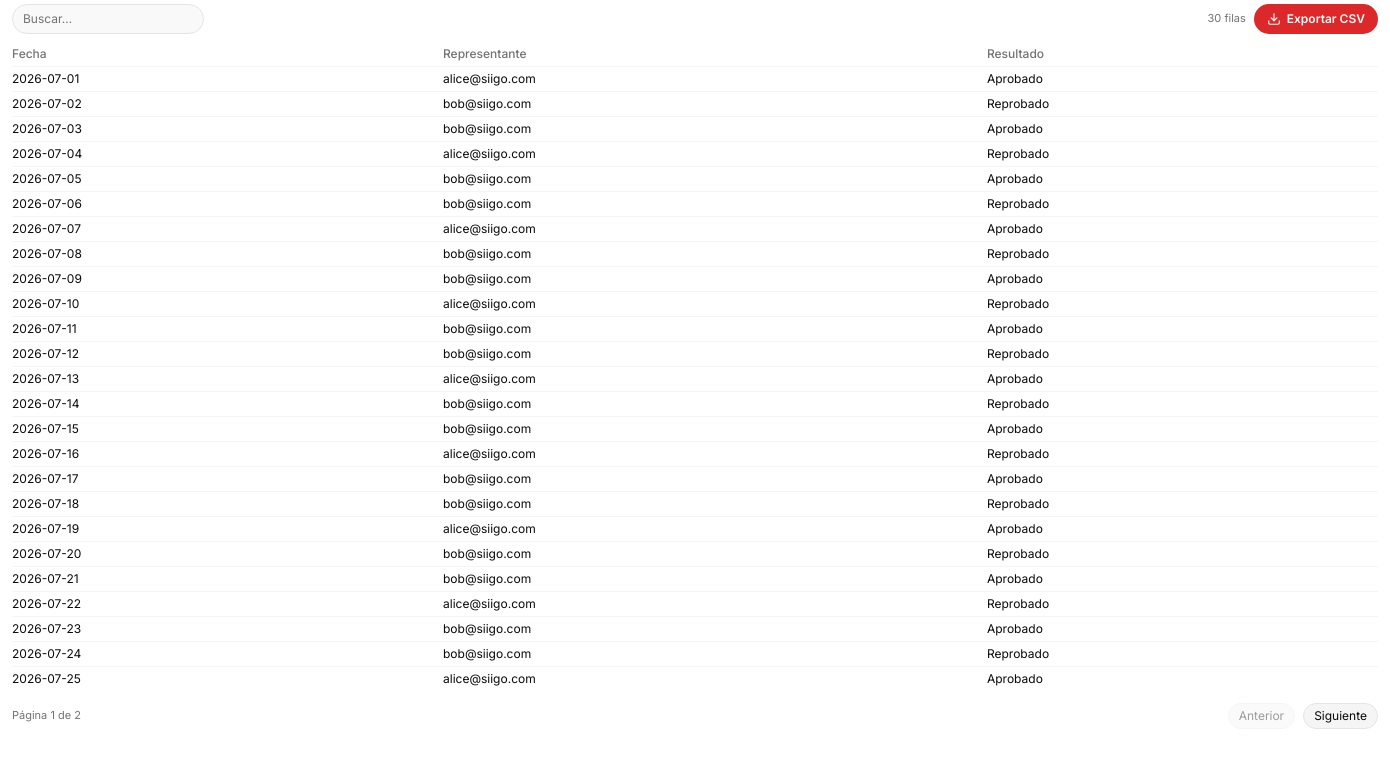
Test: ReportsTable › advances to the next page
Click the button "Siguiente". click: (1341, 716)
box: [1303,703,1378,729]
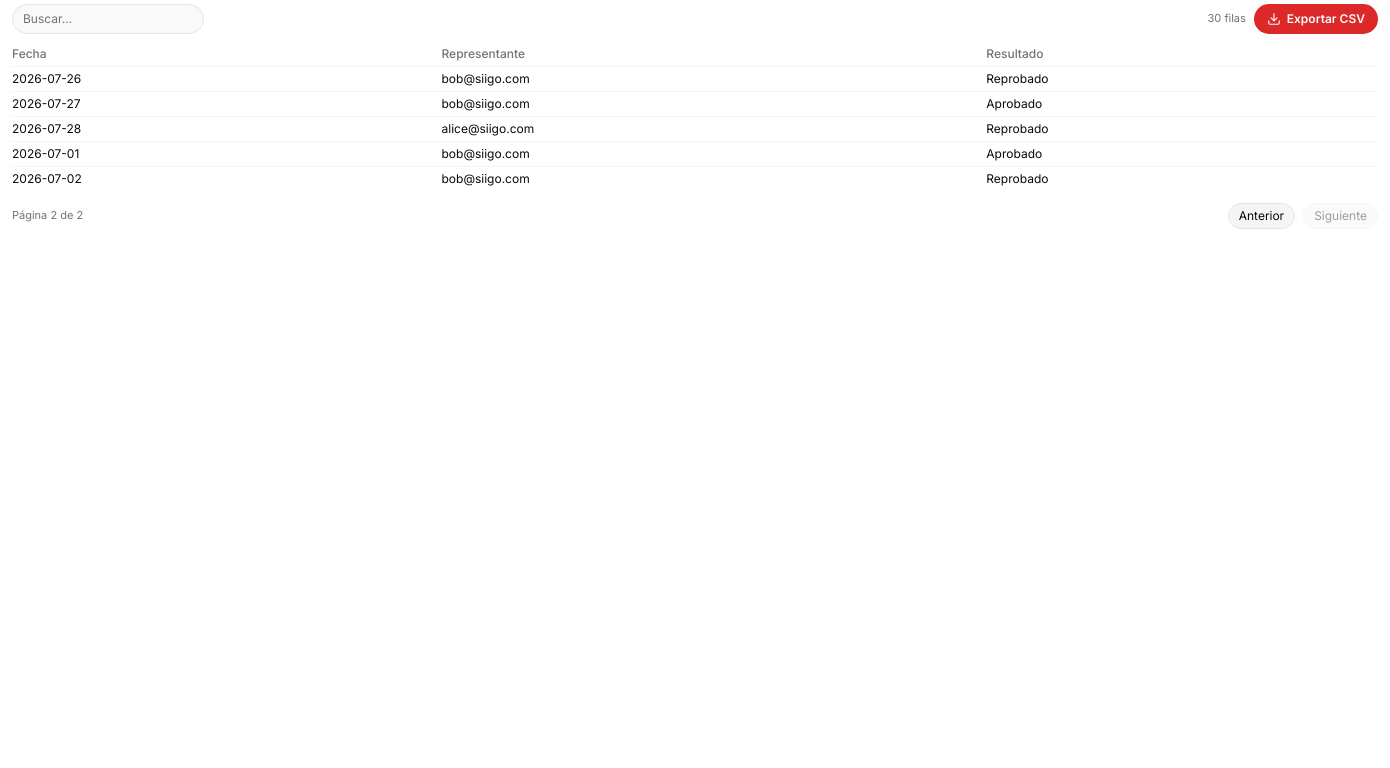
Expected: the number of rows is 6, [12,42,1378,66]; [12,66,1378,92]; [12,92,1378,116]; [12,116,1378,142]; [12,142,1378,166]; [12,166,1378,191]
Expected: the text "Página 2 de 2" is shown, [12,207,83,225]
